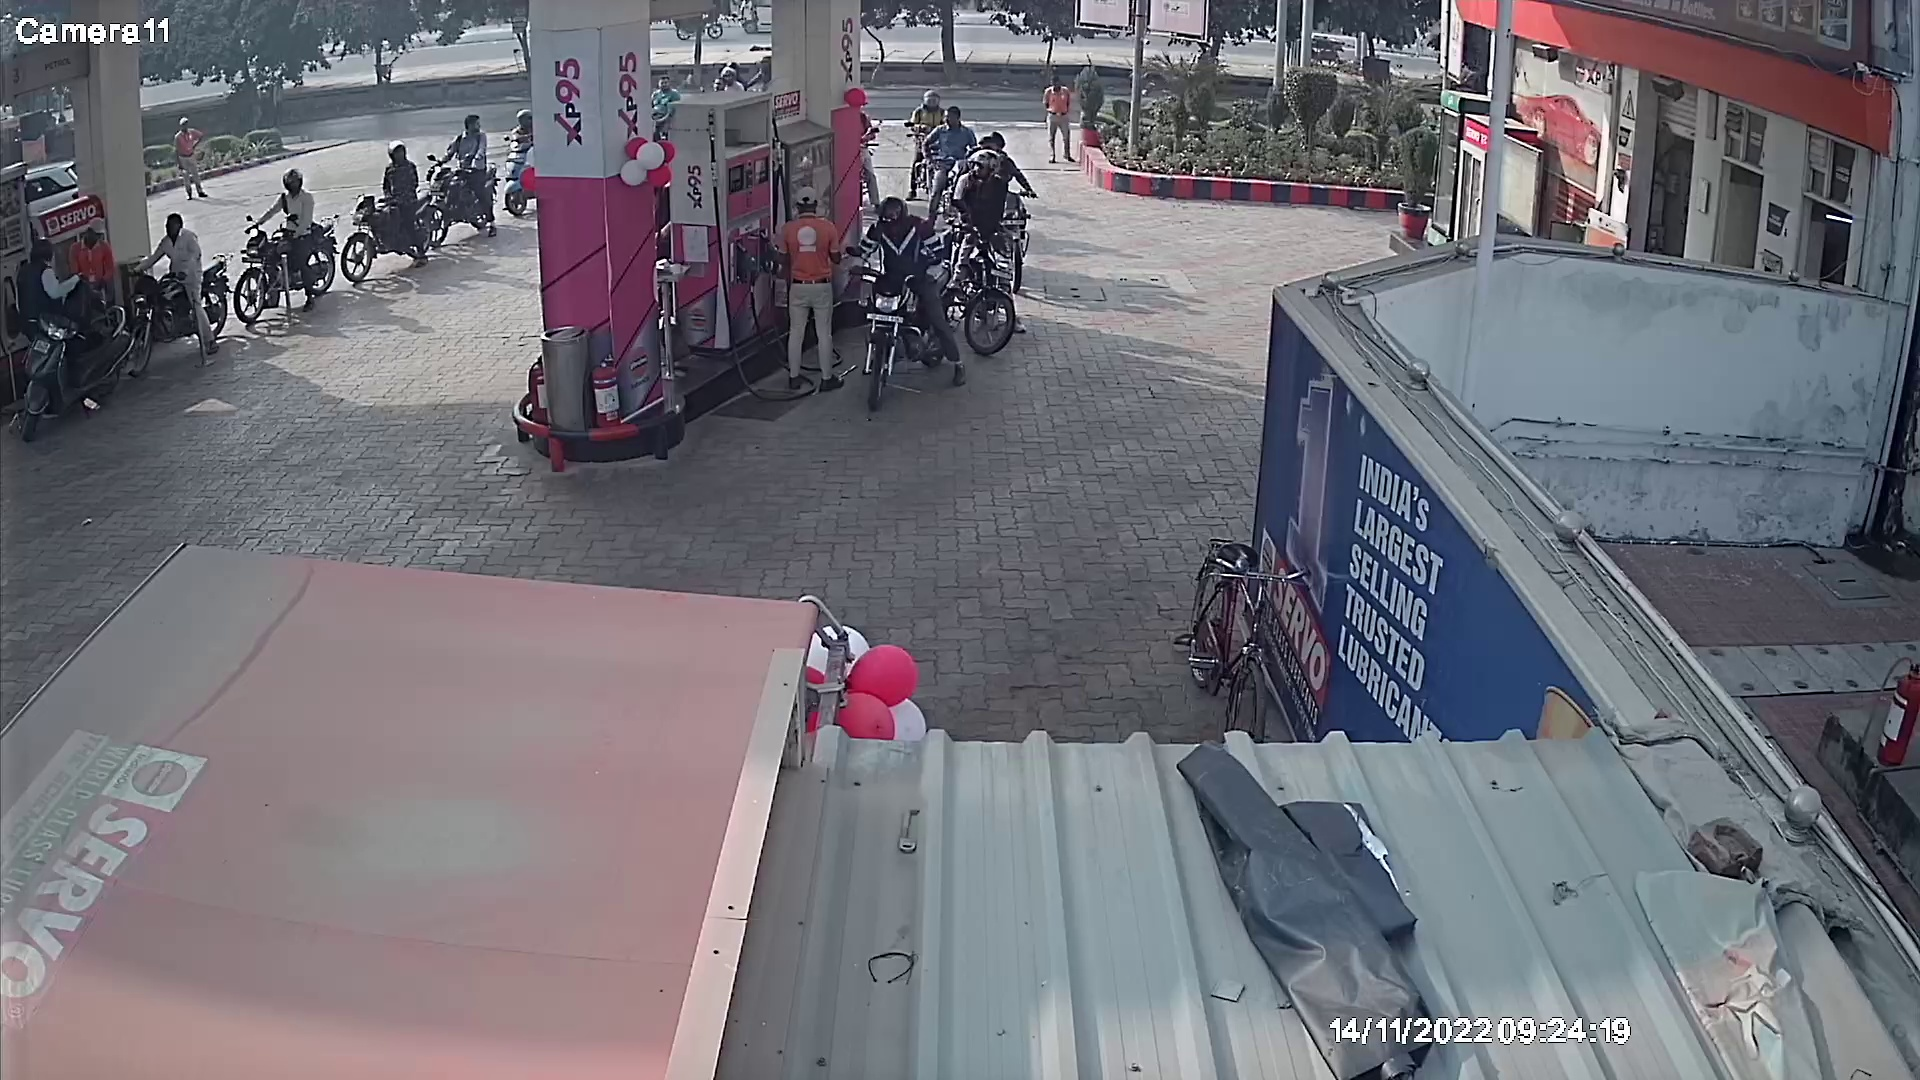Bike: (855, 82, 1047, 376), (836, 187, 975, 415), (5, 224, 140, 446), (224, 154, 355, 330), (404, 109, 521, 261), (347, 142, 452, 291), (131, 206, 237, 347), (495, 98, 541, 233)
Others: (771, 181, 843, 398), (65, 203, 127, 299), (1036, 67, 1081, 175), (167, 109, 208, 206)
